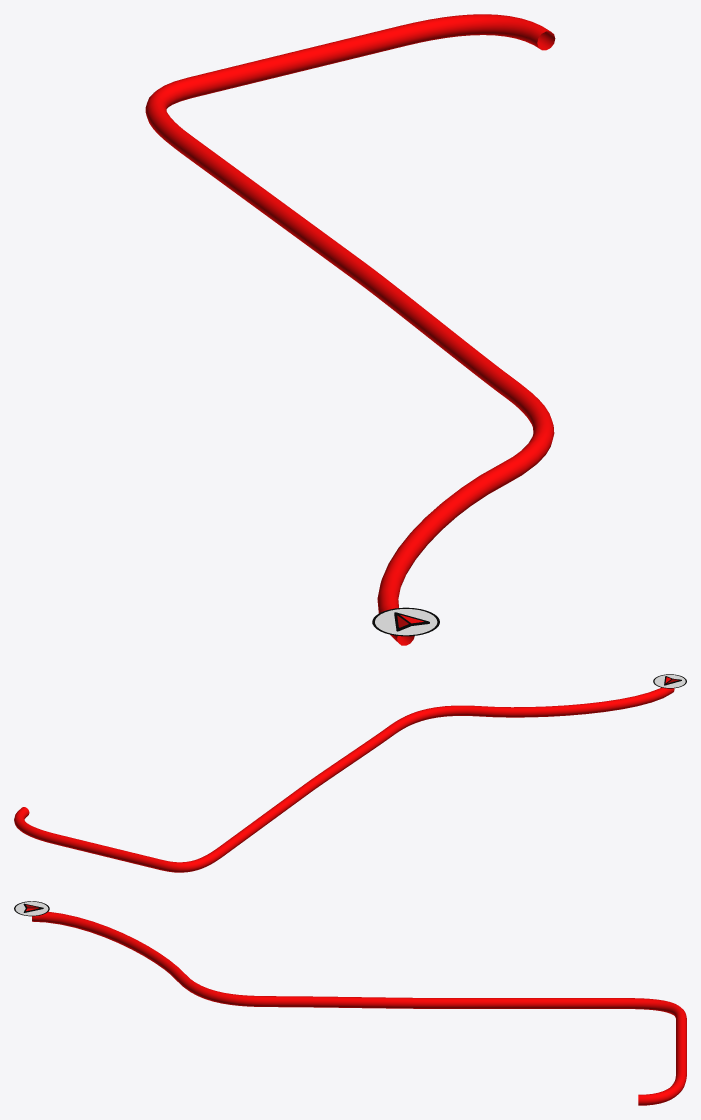
The model's file is route_32534e71-2c67-4737-9a86-83a42a1237cb_de_single.glb.
3 renders of one model, top to bottom at view 1: azimuth 30°, elevation 25°; view 2: azimuth 150°, elevation 25°; view 3: azimuth 270°, elevation 25°, orthographic. The views are drawn at different scales.
Parts seen in each view (by area): view 1: B3, Abteil 1, Navipfeil.021; view 2: B3, Abteil 1, Navipfeil.021; view 3: B3, Abteil 1, Navipfeil.021.
Part boxes in pixels (box(x1,y1,x2,y2)): B3, Abteil 1: box(145, 14, 555, 645); Navipfeil.021: box(372, 607, 439, 636); B3, Abteil 1: box(14, 687, 674, 872); Navipfeil.021: box(653, 674, 686, 688); B3, Abteil 1: box(32, 911, 686, 1105); Navipfeil.021: box(14, 901, 49, 916).
Size of the model in its own units: 3.33 by 0.1062 by 4.88.
